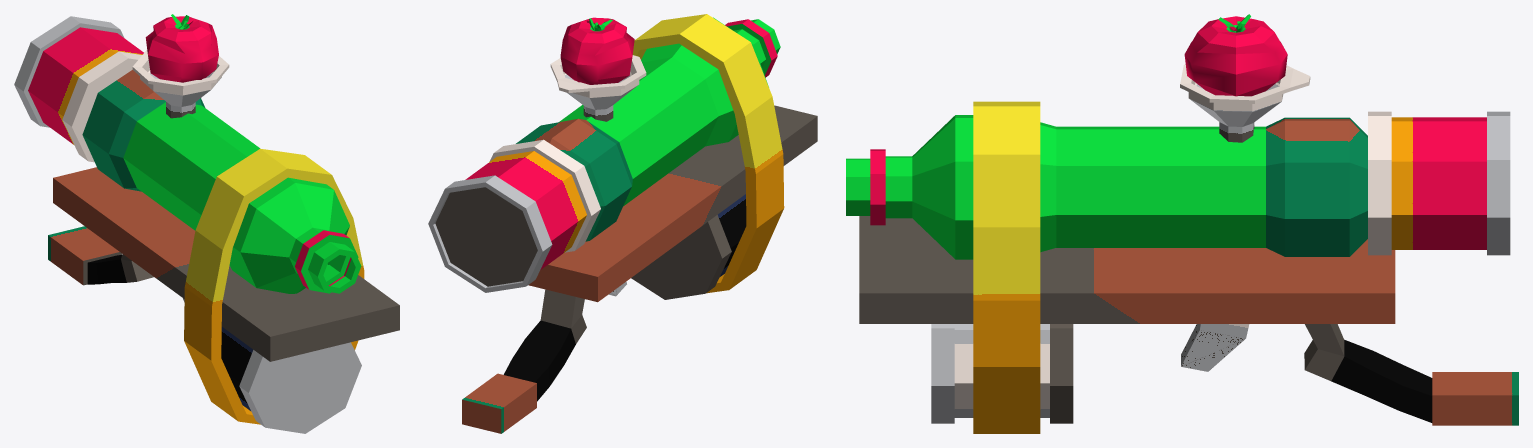
File: Arma1.fbx
3 views of the same model, side by side, from view 1: azimuth 30°, elevation 25°; view 2: azimuth 150°, elevation 25°; view 3: azimuth 270°, elevation 25° (orthographic). The views are drawn at different scales.
Visible parts, largest first — view 1: TOMATO; view 2: TOMATO; view 3: TOMATO.
Part boxes in pixels (x1,y1,x2,y2): TOMATO: (14,14,399,433); TOMATO: (428,14,817,433); TOMATO: (846,14,1518,433).
Bounding box in the file's own units: 33.8 × 70.01 × 104.
